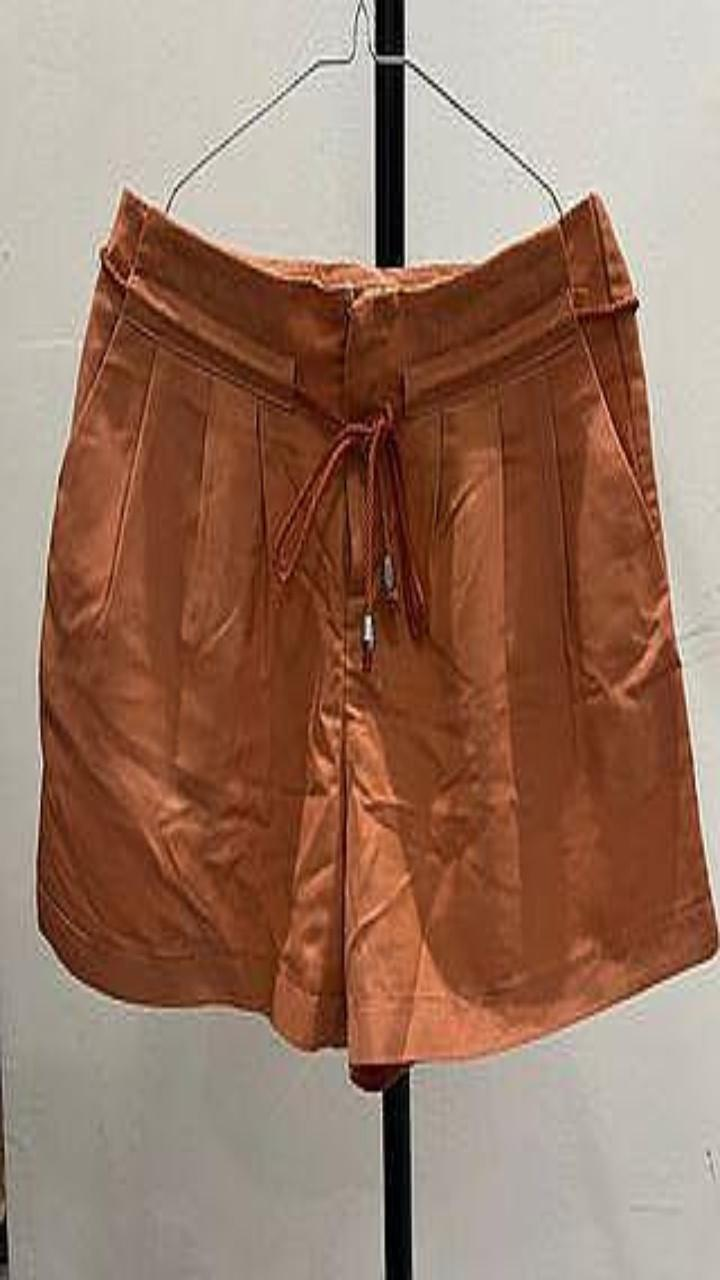Shorts: (37, 187, 717, 1089)
